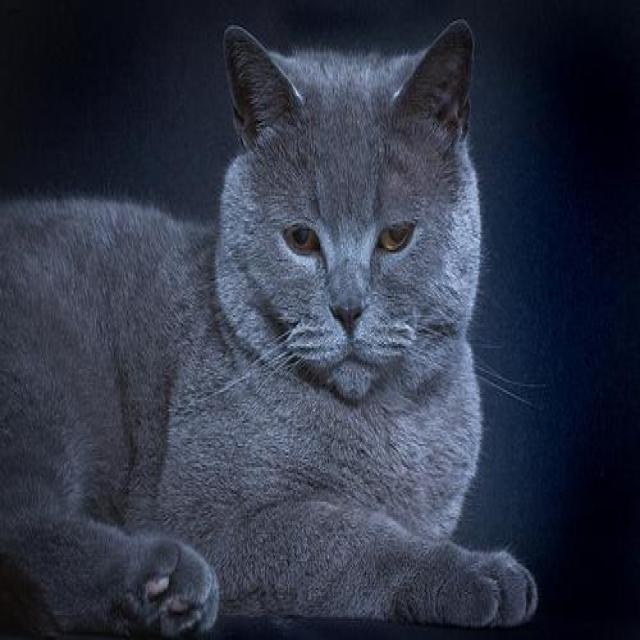cat: (0, 17, 536, 639)
